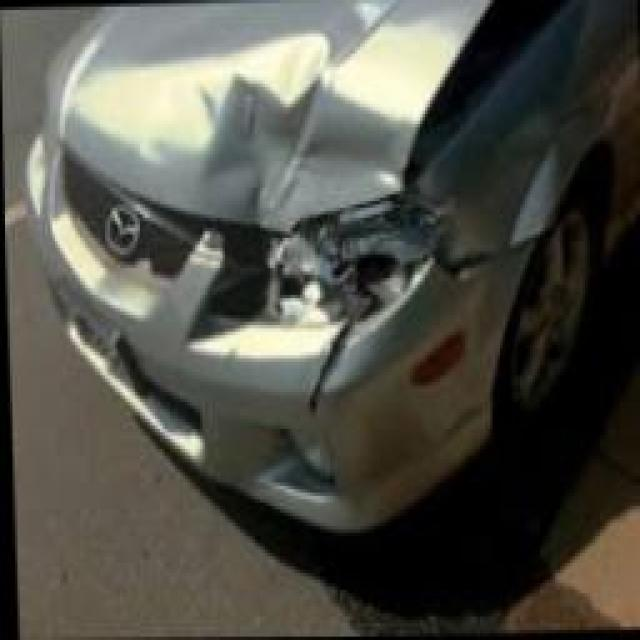Bonnet: (110, 0, 568, 237)
Bumper: (129, 239, 528, 533)
Fender: (455, 125, 569, 246)
